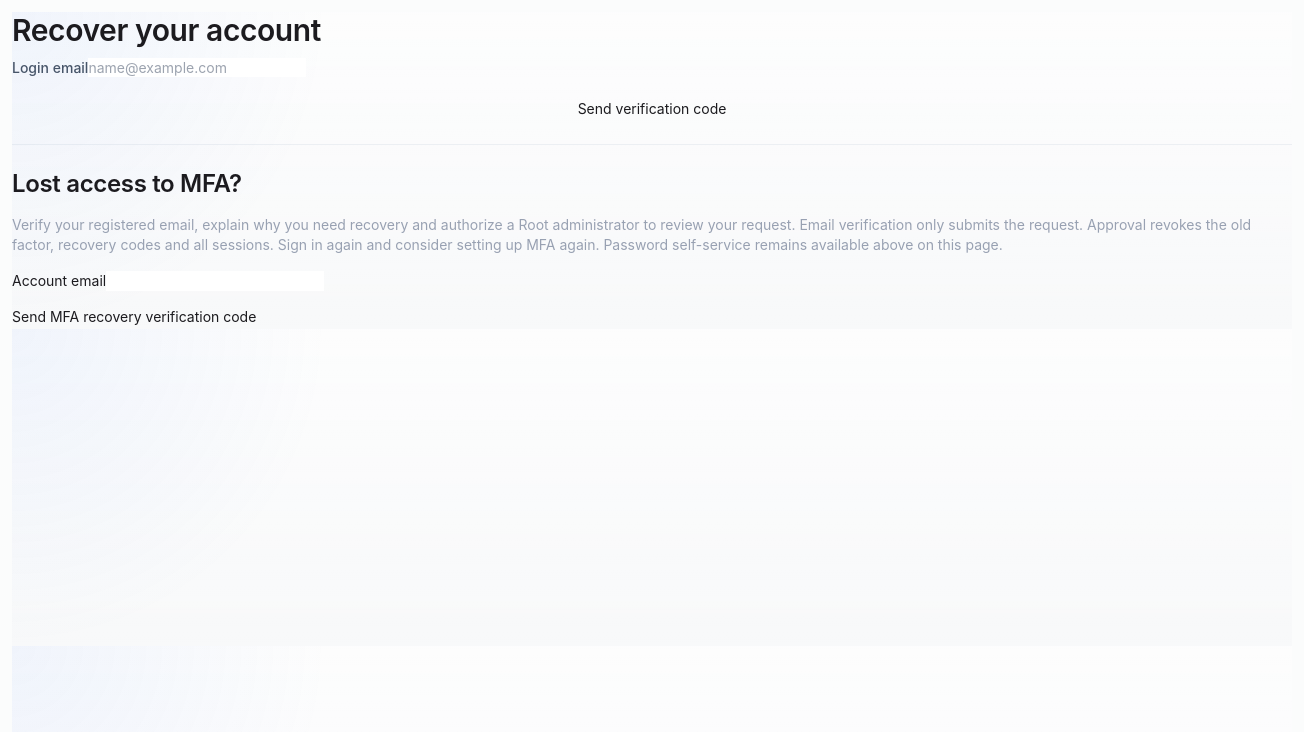
account recovery email-code flow › shows the generic success state and then an expired-code state
The width and height of the screenshot is (1304, 732).
Type "person@example.com" into the field labelled "Login email" at {"x": 197, "y": 67}, box [88,58,306,77]
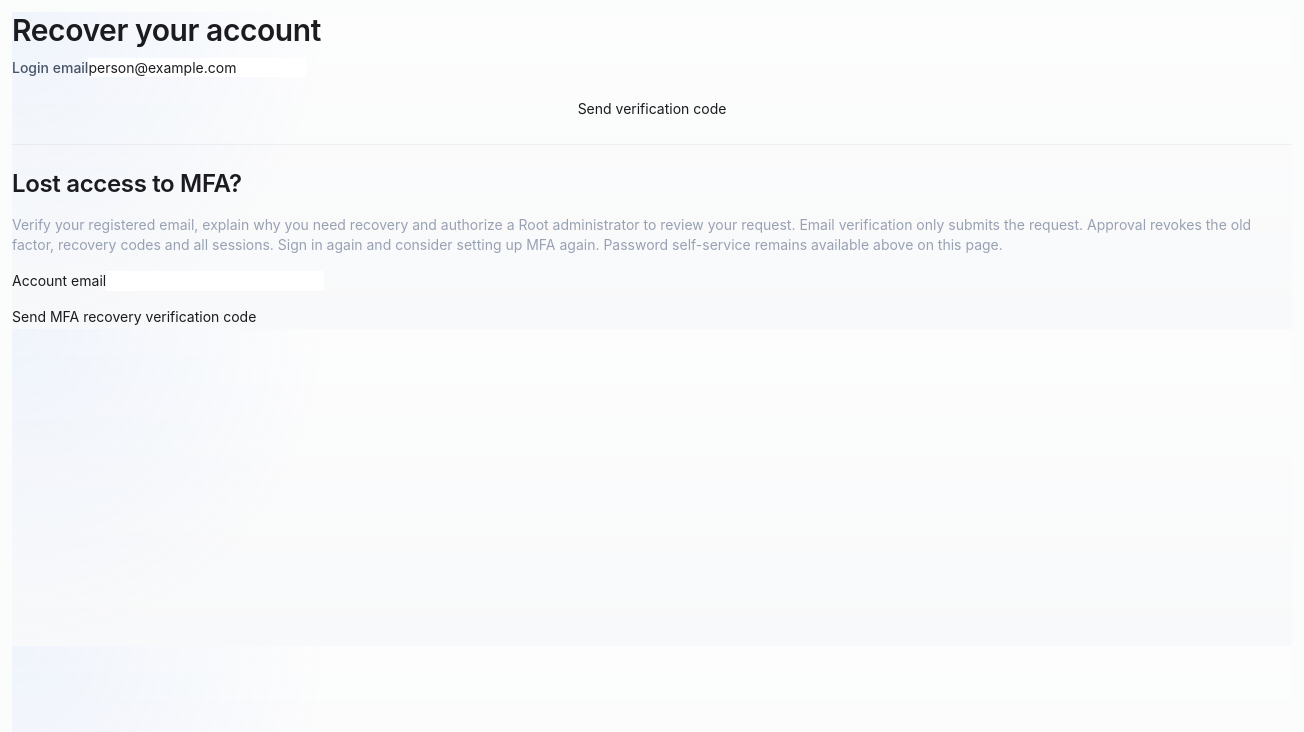
Click the button "Send verification code" at {"x": 652, "y": 109}, box [12,99,1292,118]
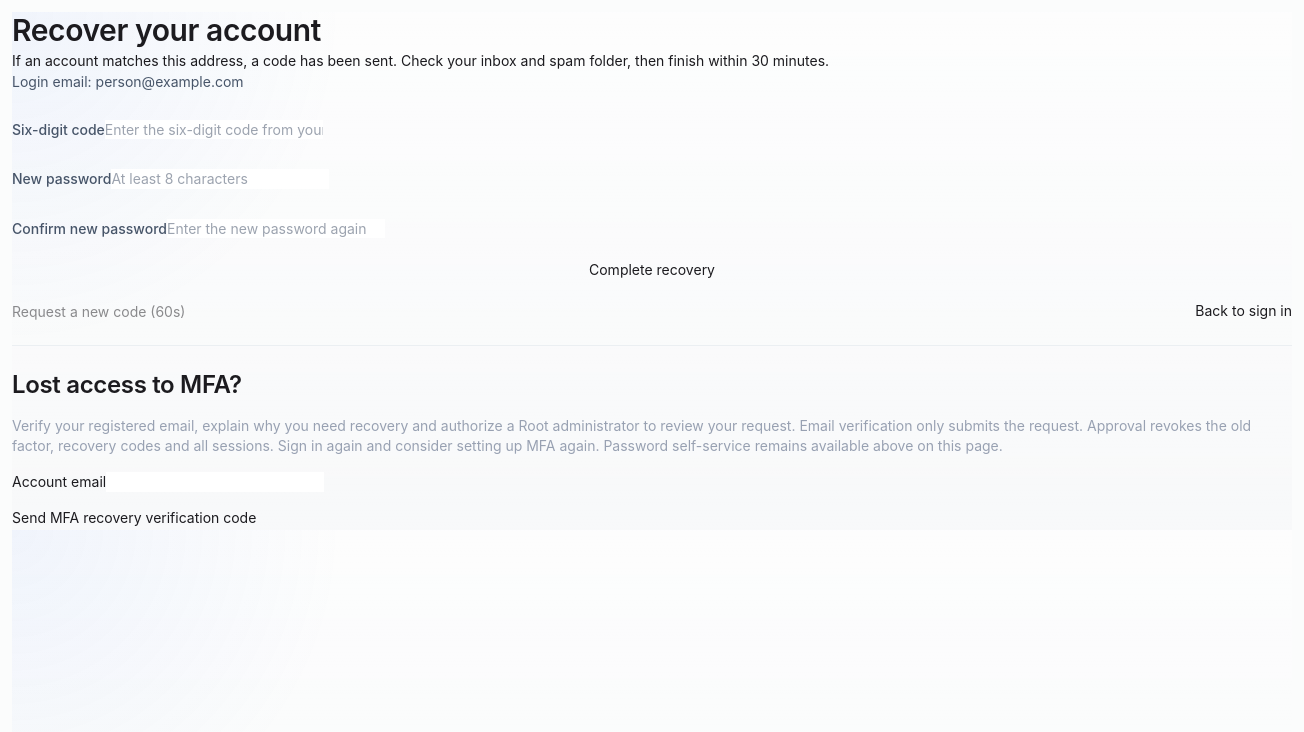
Now the text "If an account matches this address" is shown, box [12,52,829,68]
Type "012345" into the field labelled "Six-digit code" at {"x": 214, "y": 130}, box [105,120,323,140]
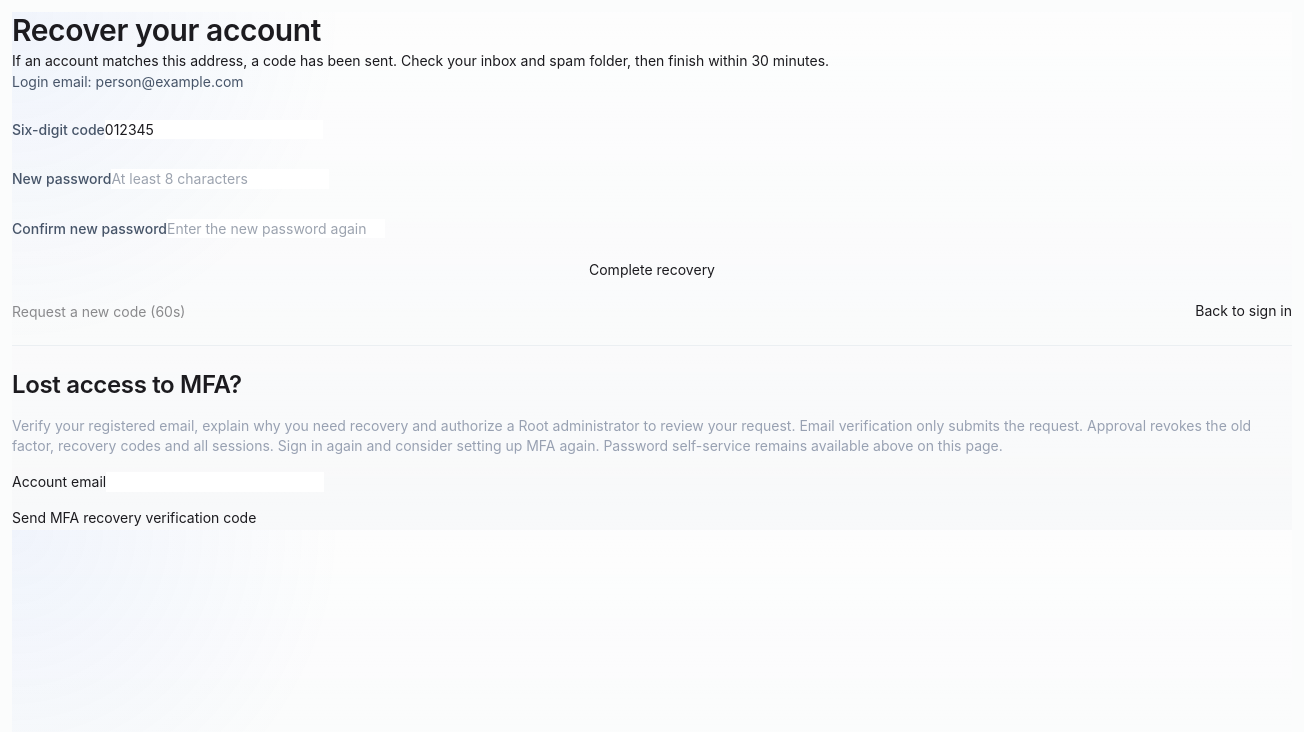
Type "newPassword123" into the password field labelled "New password" at {"x": 220, "y": 179}, box [111,169,329,189]
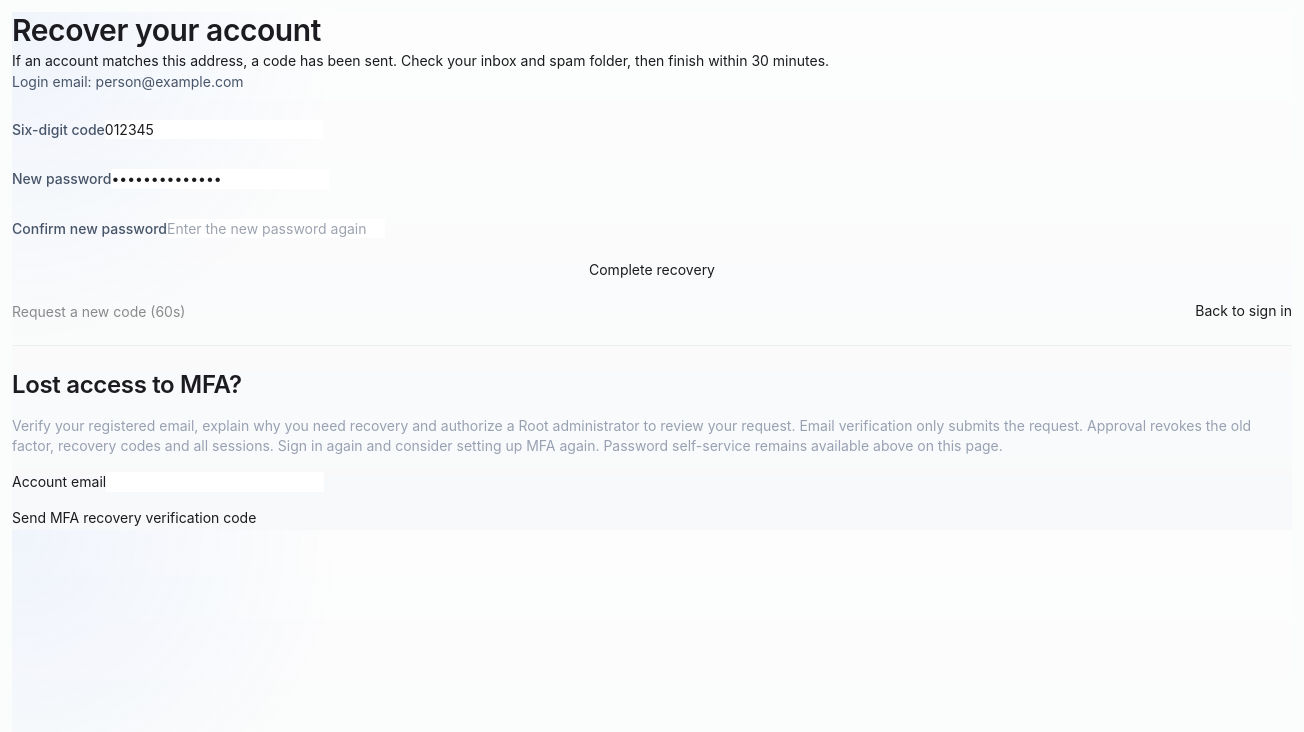
Type "newPassword123" into the password field labelled "Confirm new password" at {"x": 276, "y": 228}, box [167,219,385,238]
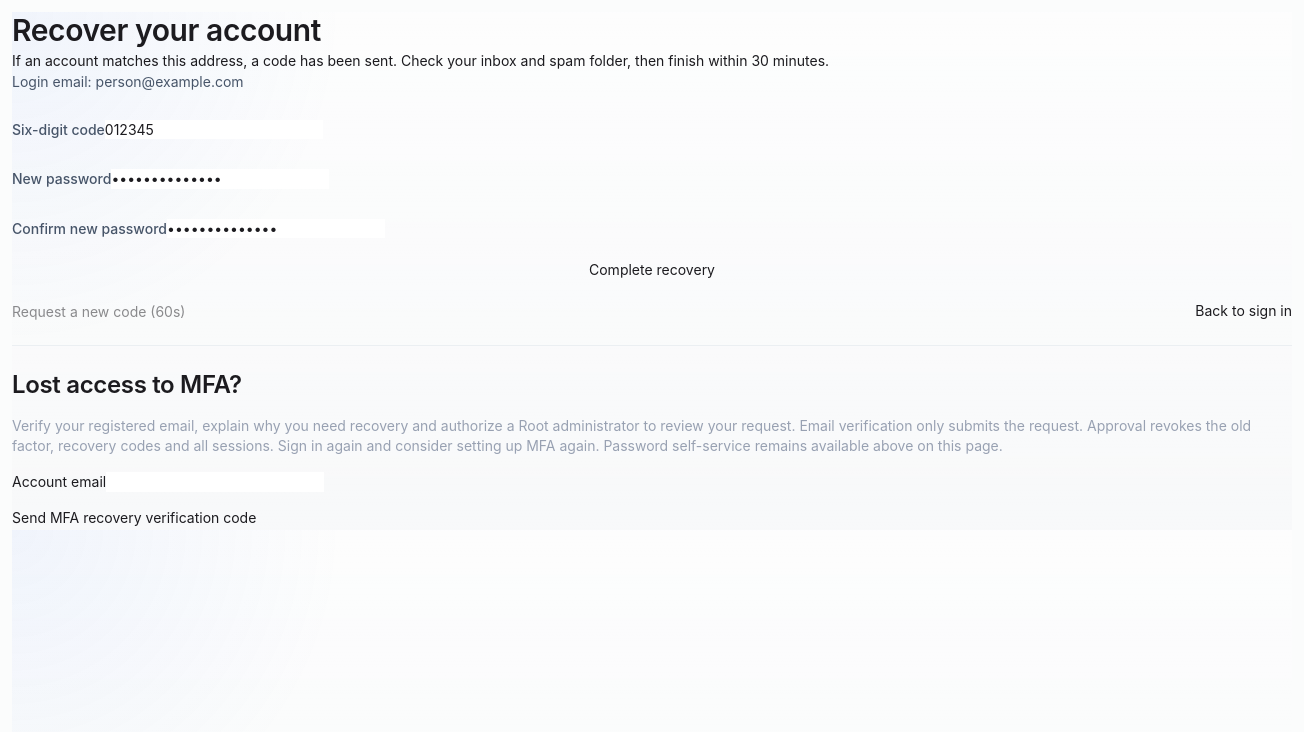
Click the button "Complete recovery" at {"x": 652, "y": 270}, box [12,260,1292,280]
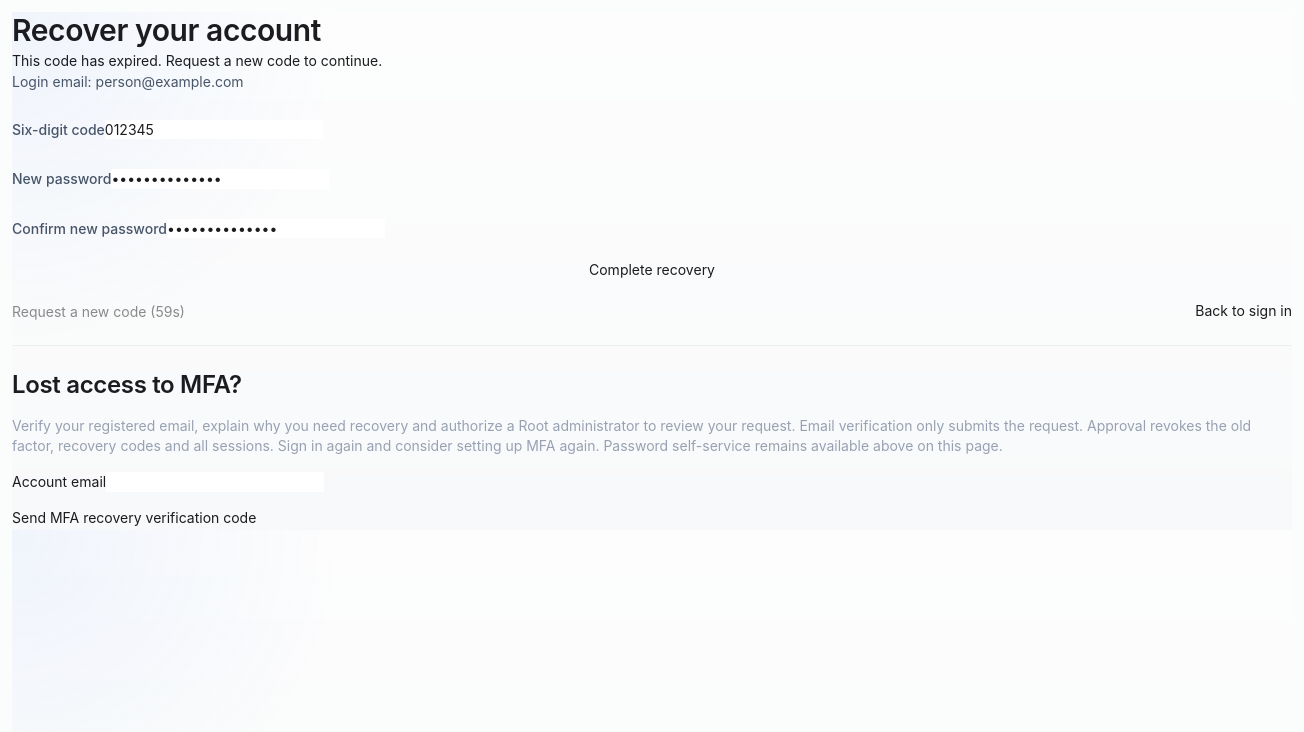
Now the message reads "This code has expired. Request a new code to continue.", box [12,52,382,68]
